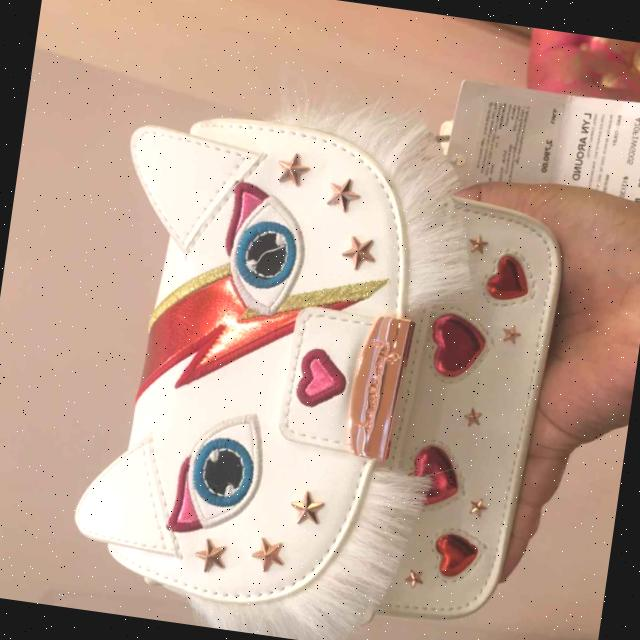Handbag: (63, 97, 577, 640)
